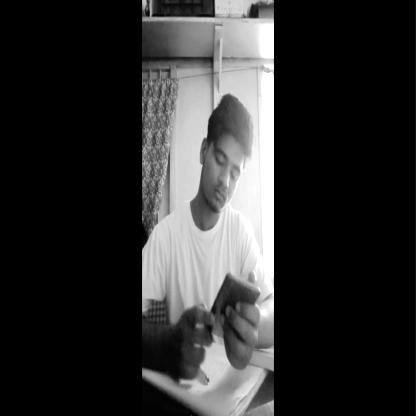Distracted: (190, 93, 254, 231)
